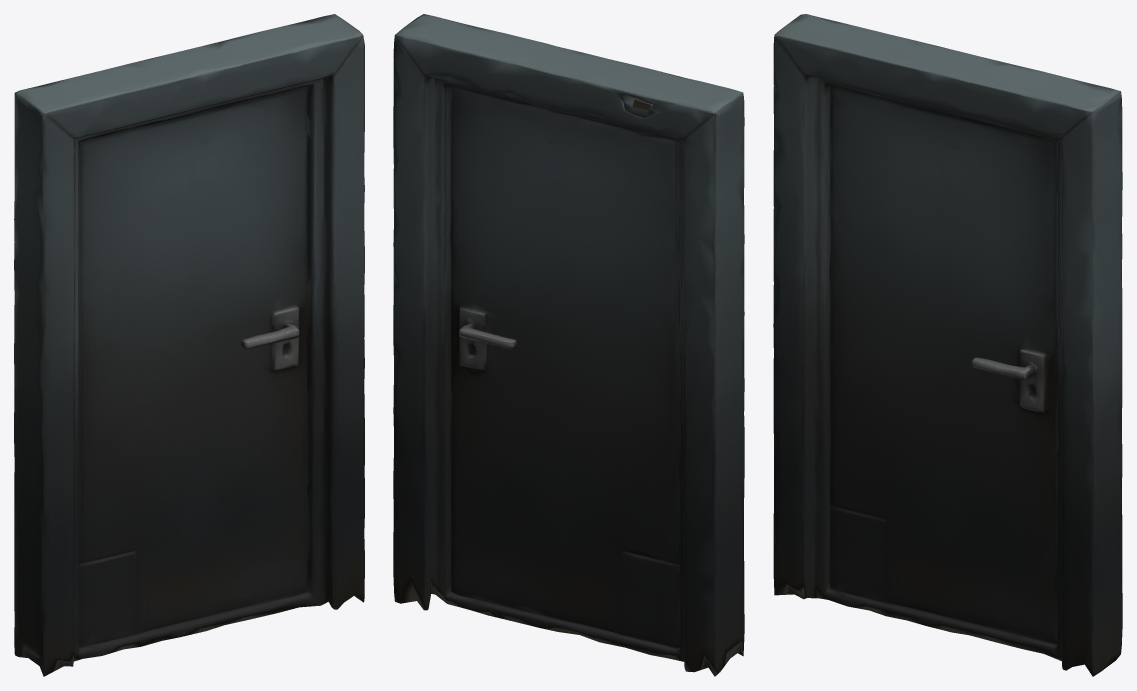
File: crypt_HiddenDoor.glb
3 renders of one model, left to right at view 1: azimuth 30°, elevation 25°; view 2: azimuth 150°, elevation 25°; view 3: azimuth 330°, elevation 25°, orthographic.
Visible parts, largest first — view 1: world; view 2: world; view 3: world.
Part boxes in pixels (x1,y1,x2,y2): world: [14, 14, 364, 676]; world: [393, 14, 744, 676]; world: [773, 14, 1122, 676].
Size of the model in its own units: 0.5947 by 1 by 0.1088.
1 material, 1 textured.
